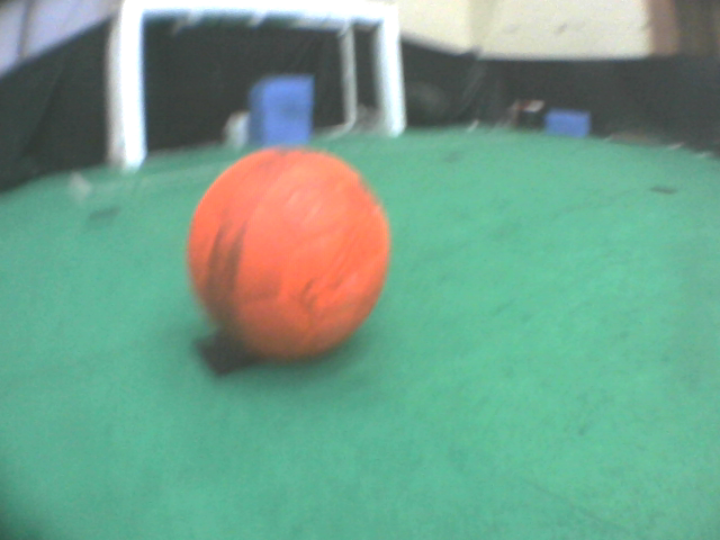bola: (178, 139, 401, 370)
